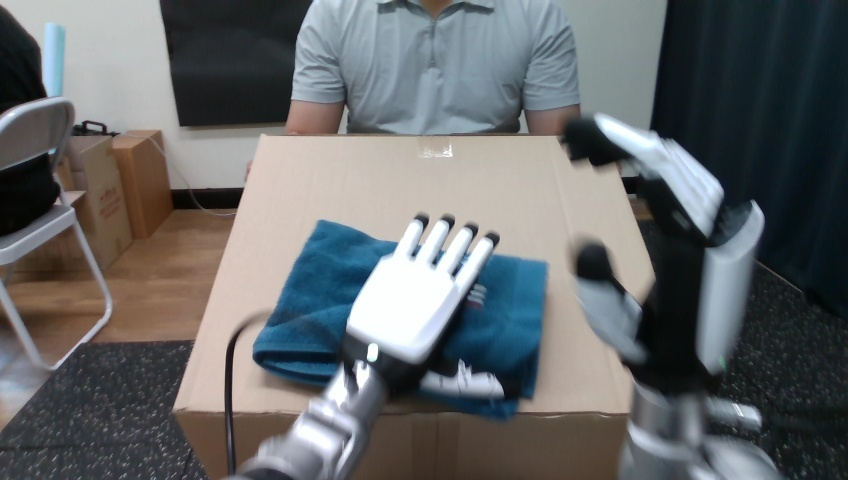left robot hand: (565, 113, 779, 478), (237, 213, 498, 478)
